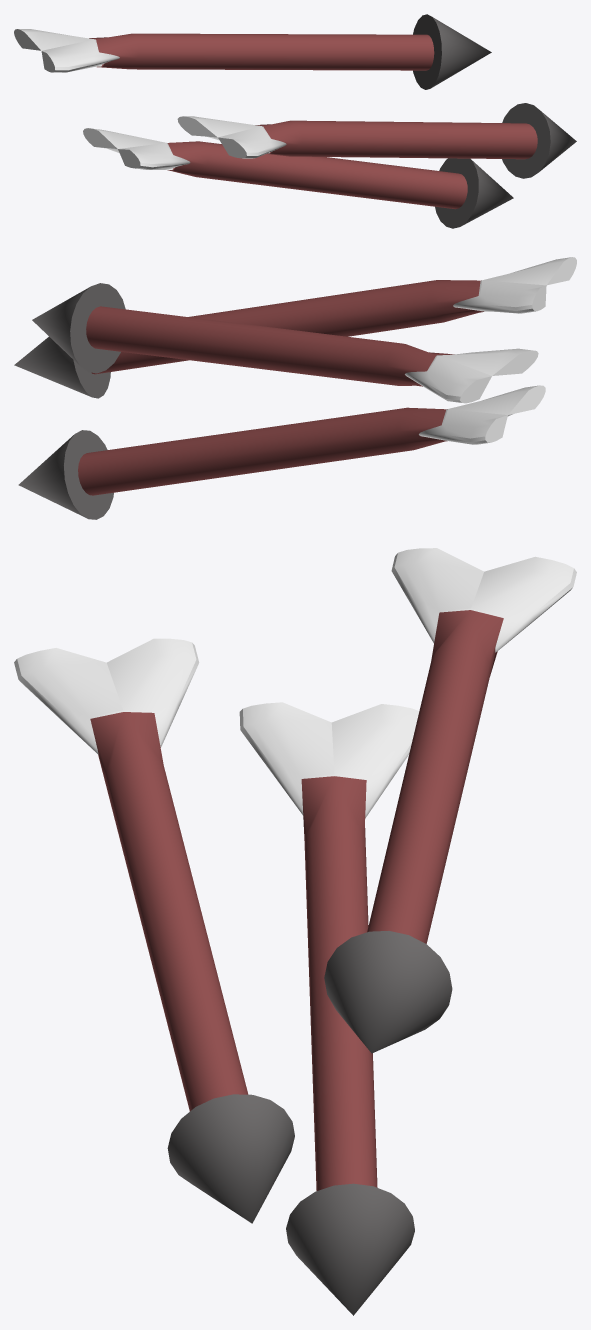
Rendered from Arrows.fbx.
3 views of the same model, one above another, from view 1: azimuth 30°, elevation 25°; view 2: azimuth 150°, elevation 25°; view 3: azimuth 270°, elevation 25° (orthographic). The views are drawn at different scales.
Visible parts, largest first — view 1: Arrow3, Arrow1, Arrow2; view 2: Arrow1, Arrow3, Arrow2; view 3: Arrow2, Arrow1, Arrow3.
Boxes of the visible parts, <box> form: Arrow3: <box>14,14,491,89</box>; Arrow1: <box>83,128,513,228</box>; Arrow2: <box>177,103,576,178</box>; Arrow1: <box>18,385,545,519</box>; Arrow3: <box>32,283,538,403</box>; Arrow2: <box>14,257,576,398</box>; Arrow2: <box>14,638,294,1223</box>; Arrow1: <box>239,702,419,1315</box>; Arrow3: <box>324,548,576,1053</box>.
Size of the model in its own units: 145 by 70.7 by 86.4.
